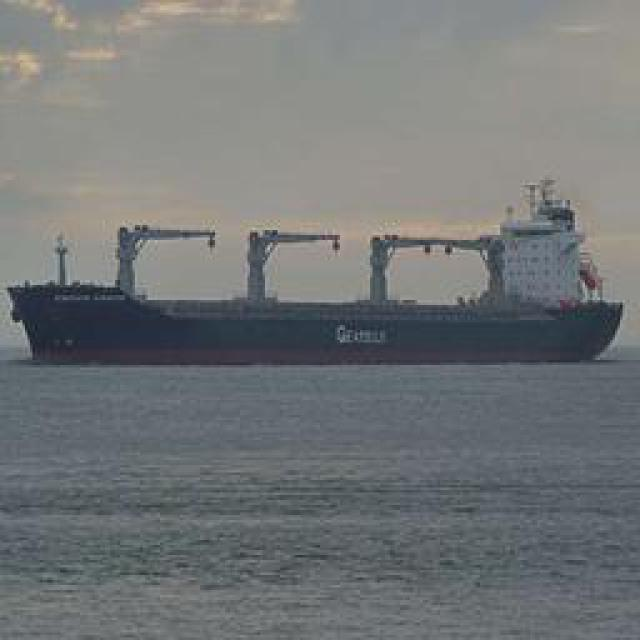Ship: (7, 215, 635, 370)
